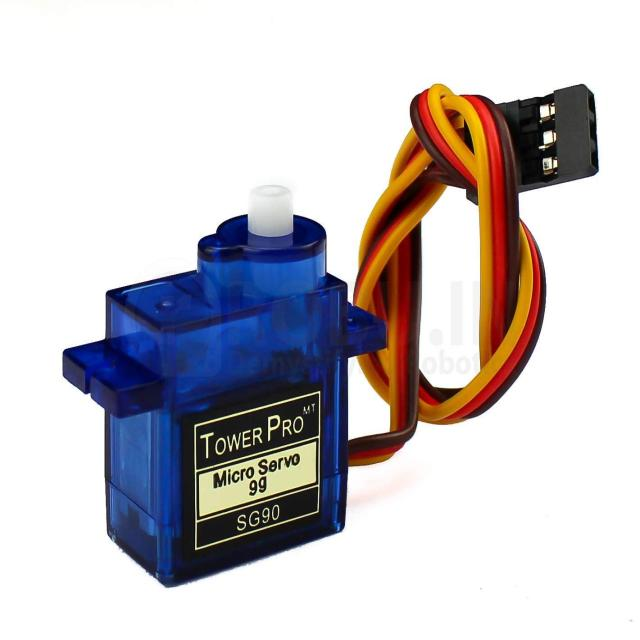motor: (61, 185, 388, 590)
